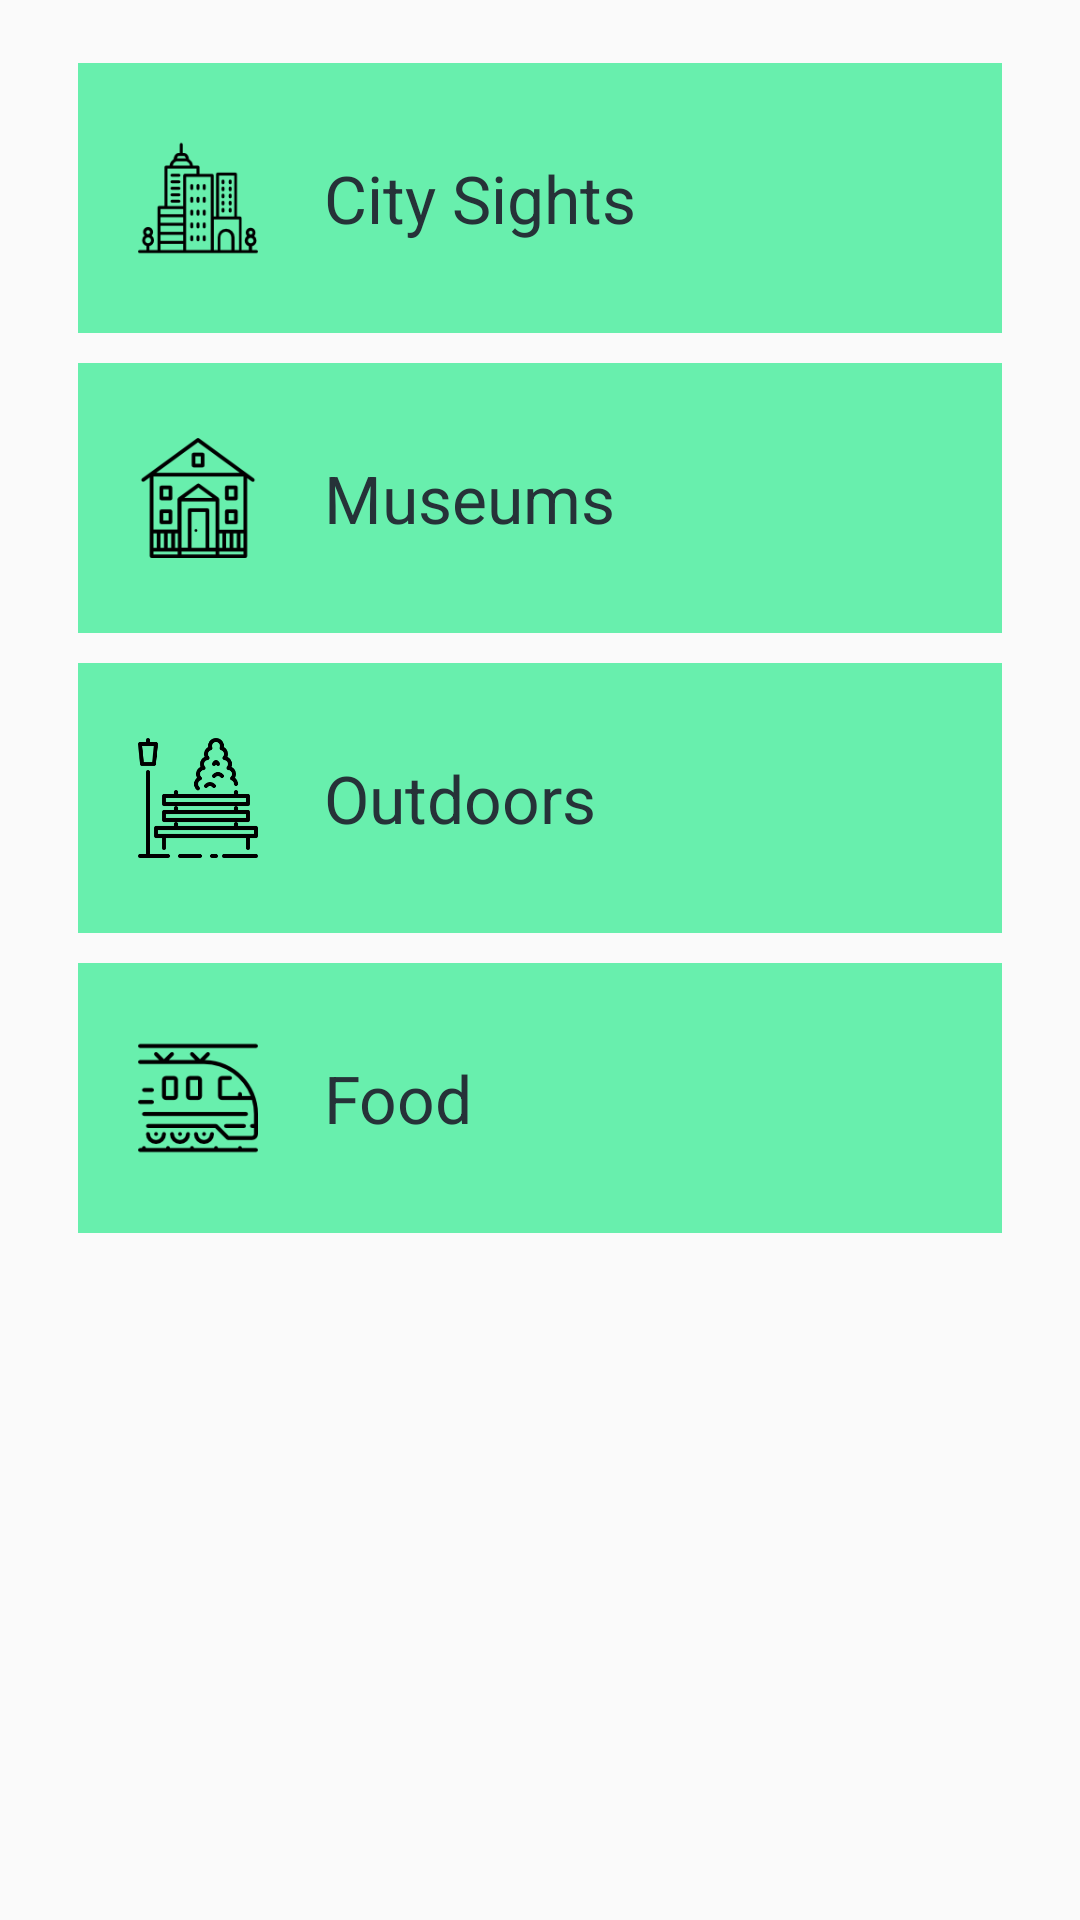

Where icons sit on this 1080px x 1920px app screen, as (x1, y1, x2, y2):
by train: (138, 1043, 258, 1153)
